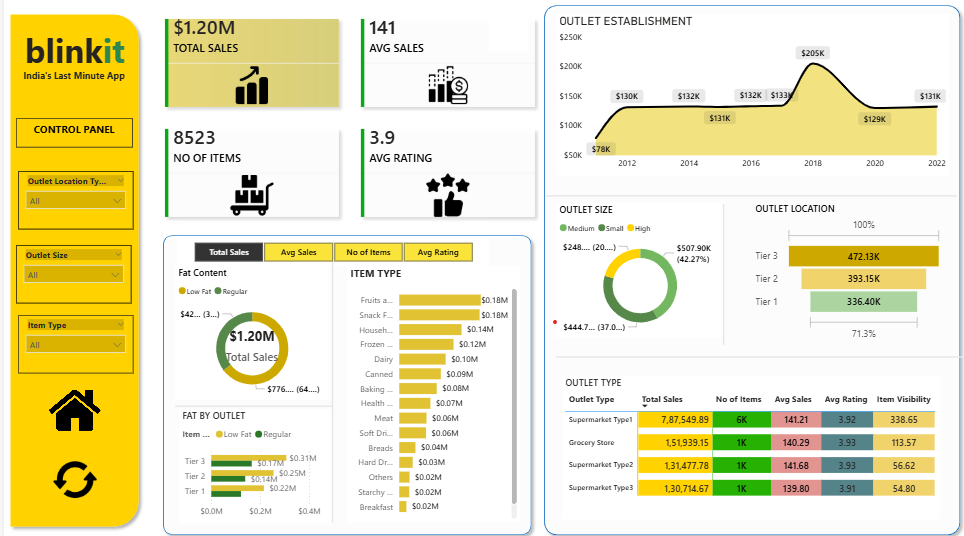

What the dashboard file says about the page in this screenshot:
{"tool":"powerbi","page":{"name":"Page 1","canvas":[1400,800],"ordinal":0},"visuals":[{"type":"shape","box":[0,24.7,205.1,763.6],"z":0},{"type":"textbox","box":[22.9,47.3,160,83.3],"z":1000},{"type":"textbox","box":[22.9,109.4,161.6,42.4],"z":2000},{"type":"cardVisual","fields":{"Data":["BlinkIT Grocery Data.Total Sales","BlinkIT Grocery Data.Avg Sales","BlinkIT Grocery Data.No of Items","BlinkIT Grocery Data.Avg Rating"]},"box":[205.7,11.4,597.6,347.8],"z":3000},{"type":"shape","box":[222,346.1,553.5,453.9],"z":4000},{"type":"donutChart","title":"Fat Content","fields":{"Category":["BlinkIT Grocery Data.Item Fat Content"],"Y":["BlinkIT Grocery Data.Total Sales"]},"box":[248.5,400.3,224.8,195.2],"z":5000},{"type":"slicer","fields":{"Values":["metrics.metrics"]},"box":[251.4,359.2,453.9,40.8],"z":6000},{"type":"card","fields":{"Values":["BlinkIT Grocery Data.Total Sales"]},"box":[317.5,483.1,86.8,63.1],"z":7000},{"type":"clusteredBarChart","title":"FAT BY OUTLET","fields":{"Category":["BlinkIT Grocery Data.Outlet Location Type"],"Series":["BlinkIT Grocery Data.Item Fat Content"],"Y":["BlinkIT Grocery Data.Total Sales"]},"box":[254.7,607.3,222,166.5],"z":8000},{"type":"shape","box":[248.2,561.6,228.6,84.9],"z":9000},{"type":"shape","box":[364.1,393.5,228.6,378.8],"z":10000},{"type":"barChart","title":"ITEM TYPE","fields":{"Category":["BlinkIT Grocery Data.Item Type"],"Y":["BlinkIT Grocery Data.Total Sales"]},"box":[498.9,400.3,252.4,372.7],"z":11000},{"type":"shape","box":[776.9,11.8,623.1,788.7],"z":12000},{"type":"lineChart","title":"OUTLET ESTABLISHMENT ","fields":{"Category":["BlinkIT Grocery Data.Outlet Establishment Year"],"Y":["BlinkIT Grocery Data.Total Sales"]},"box":[802.5,33.5,571.8,234.6],"z":13000},{"type":"shape","box":[788.7,248.5,597.5,98.6],"z":14000},{"type":"donutChart","title":"OUTLET SIZE","fields":{"Category":["BlinkIT Grocery Data.Outlet Size"],"Y":["BlinkIT Grocery Data.Total Sales"]},"box":[803.3,308.6,244.9,195.9],"z":15000},{"type":"shape","box":[932.7,309.6,228.7,205.1],"z":16000},{"type":"funnel","title":"OUTLET LOCATION","fields":{"Category":["BlinkIT Grocery Data.Outlet Location Type"],"Y":["Sum(BlinkIT Grocery Data.Sales)"]},"box":[1087.5,307.4,281.5,206.6],"z":16001},{"type":"shape","box":[803.3,405.5,594.1,253.1],"z":16002},{"type":"pivotTable","title":"OUTLET TYPE","fields":{"Rows":["BlinkIT Grocery Data.Outlet Type"],"Values":["Sum(BlinkIT Grocery Data.Sales)","BlinkIT Grocery Data.No of Items","BlinkIT Grocery Data.Avg Sales","BlinkIT Grocery Data.Avg Rating","Sum(BlinkIT Grocery Data.Item Visibility)"]},"box":[811.1,560.5,550.2,209.2],"z":16003},{"type":"shape","box":[705.9,39.4,57.2,49.3],"z":16004},{"type":"slicer","fields":{"Values":["BlinkIT Grocery Data.Outlet Location Type"]},"box":[19.7,262.3,167.6,84.8],"z":16005},{"type":"slicer","fields":{"Values":["BlinkIT Grocery Data.Outlet Size"]},"box":[17.7,368.7,167.6,84.8],"z":16006},{"type":"slicer","fields":{"Values":["BlinkIT Grocery Data.Item Type"]},"box":[19.7,471.3,167.6,84.8],"z":16007},{"type":"textbox","box":[17.7,185.4,169.6,43.4],"z":16008},{"type":"image","box":[65.3,573.1,75.1,73.5],"z":16010},{"type":"image","box":[66.9,679.3,72.7,62.5],"z":16011}]}

Visuals, with their boxes in screenshot pixels (x1, y1, x2, y2), scaled from the page's 1400x800 canvas onto the 964x536 screenshot:
shape: select_region(0, 17, 141, 528)
textbox: select_region(16, 32, 126, 88)
textbox: select_region(16, 73, 127, 102)
cardVisual - BlinkIT Grocery Data.Total Sales x BlinkIT Grocery Data.Avg Sales: select_region(142, 8, 553, 241)
shape: select_region(153, 232, 534, 535)
"Fat Content" donutChart: select_region(171, 268, 326, 399)
slicer - metrics.metrics: select_region(173, 241, 486, 268)
card - BlinkIT Grocery Data.Total Sales: select_region(219, 324, 278, 366)
"FAT BY OUTLET" clusteredBarChart: select_region(175, 407, 328, 518)
shape: select_region(171, 376, 328, 433)
shape: select_region(251, 264, 408, 517)
"ITEM TYPE" barChart: select_region(344, 268, 517, 518)
shape: select_region(535, 8, 963, 535)
"OUTLET ESTABLISHMENT " lineChart: select_region(553, 22, 946, 180)
shape: select_region(543, 166, 954, 233)
"OUTLET SIZE" donutChart: select_region(553, 207, 722, 338)
shape: select_region(642, 207, 800, 345)
"OUTLET LOCATION" funnel: select_region(749, 206, 943, 344)
shape: select_region(553, 272, 962, 441)
"OUTLET TYPE" pivotTable: select_region(559, 376, 937, 516)
shape: select_region(486, 26, 525, 59)
slicer - BlinkIT Grocery Data.Outlet Location Type: select_region(14, 176, 129, 233)
slicer - BlinkIT Grocery Data.Outlet Size: select_region(12, 247, 128, 304)
slicer - BlinkIT Grocery Data.Item Type: select_region(14, 316, 129, 373)
textbox: select_region(12, 124, 129, 153)
image: select_region(45, 384, 97, 433)
image: select_region(46, 455, 96, 497)
